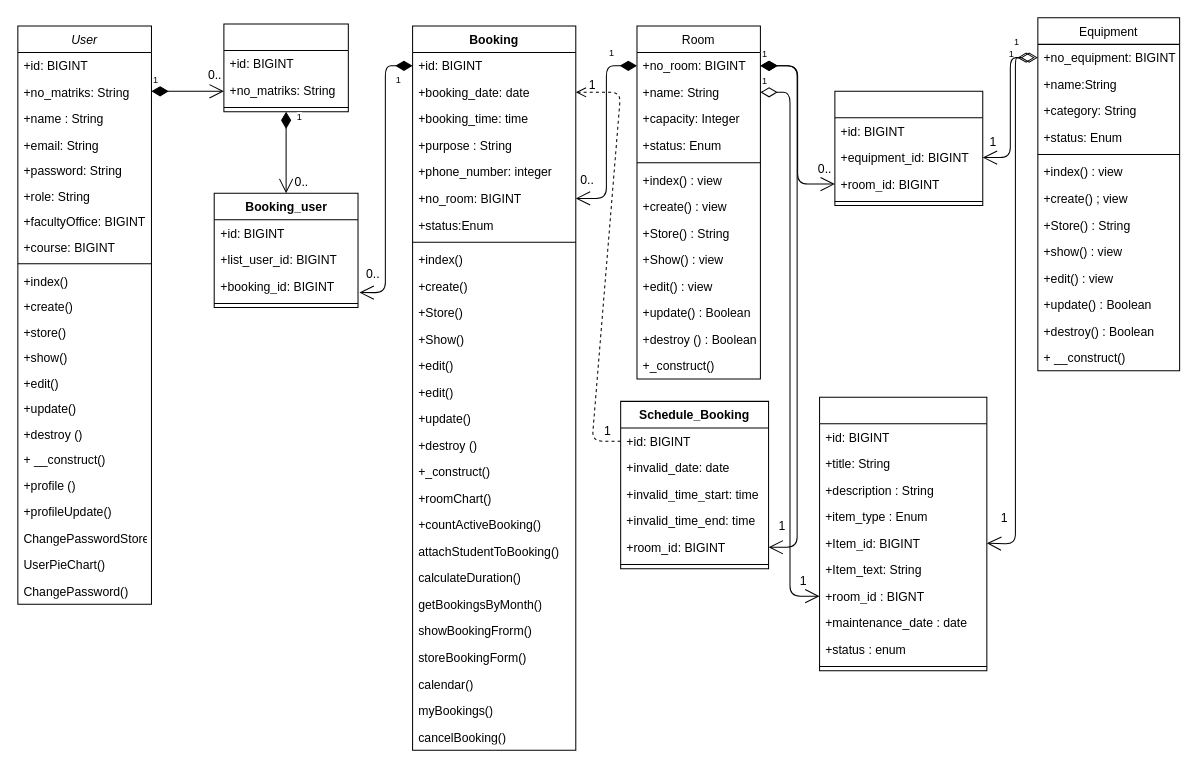
Some shapes in this 1197 by 771 pixel diagram are drawn without their labels. The shapes that lost their labels are listed below. From the top down, each one's box as (x1, y1, x2, y2) in pixels, then its label:
(223, 23, 348, 112): List_User
(834, 90, 983, 206): Room_equipment
(819, 396, 987, 671): Meantenance
